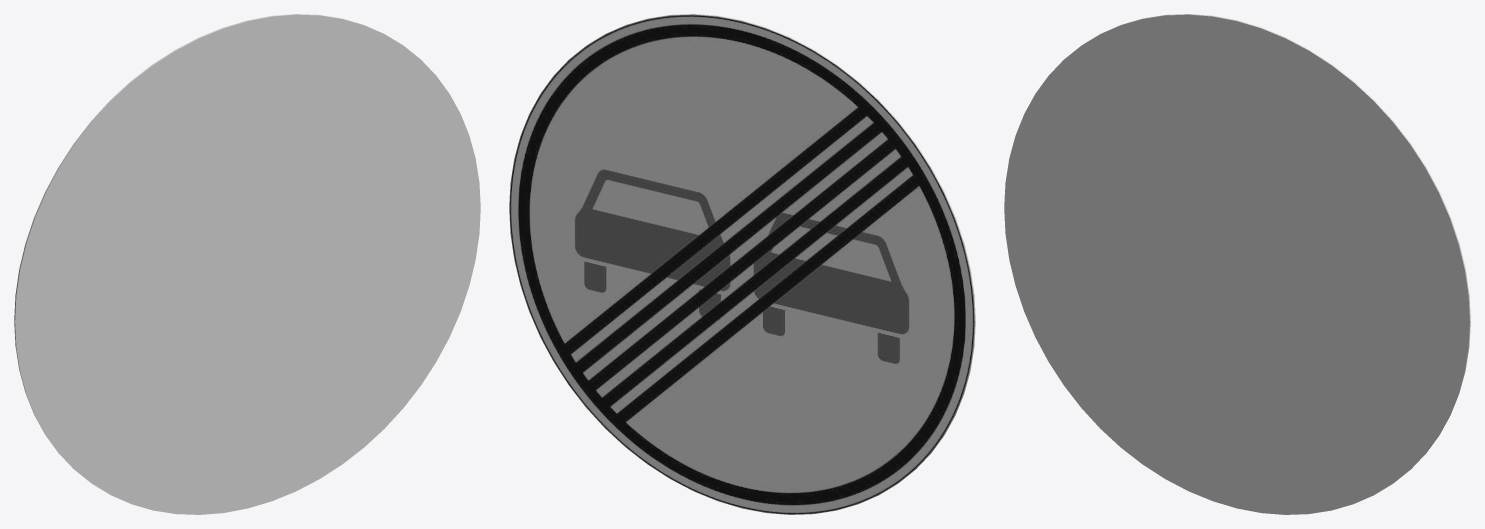
3 views of the same model, side by side, from view 1: azimuth 30°, elevation 25°; view 2: azimuth 150°, elevation 25°; view 3: azimuth 330°, elevation 25° (orthographic).
Visible parts, largest first — view 1: Circle; view 2: Circle; view 3: Circle.
Part boxes in pixels (left/top/right/bottom): Circle: left=14, top=14, right=480, bottom=514; Circle: left=509, top=14, right=975, bottom=514; Circle: left=1004, top=14, right=1470, bottom=514.
Size of the model in its own units: 0.6 by 0.6 by 0.002.
2 materials, 1 textured.
